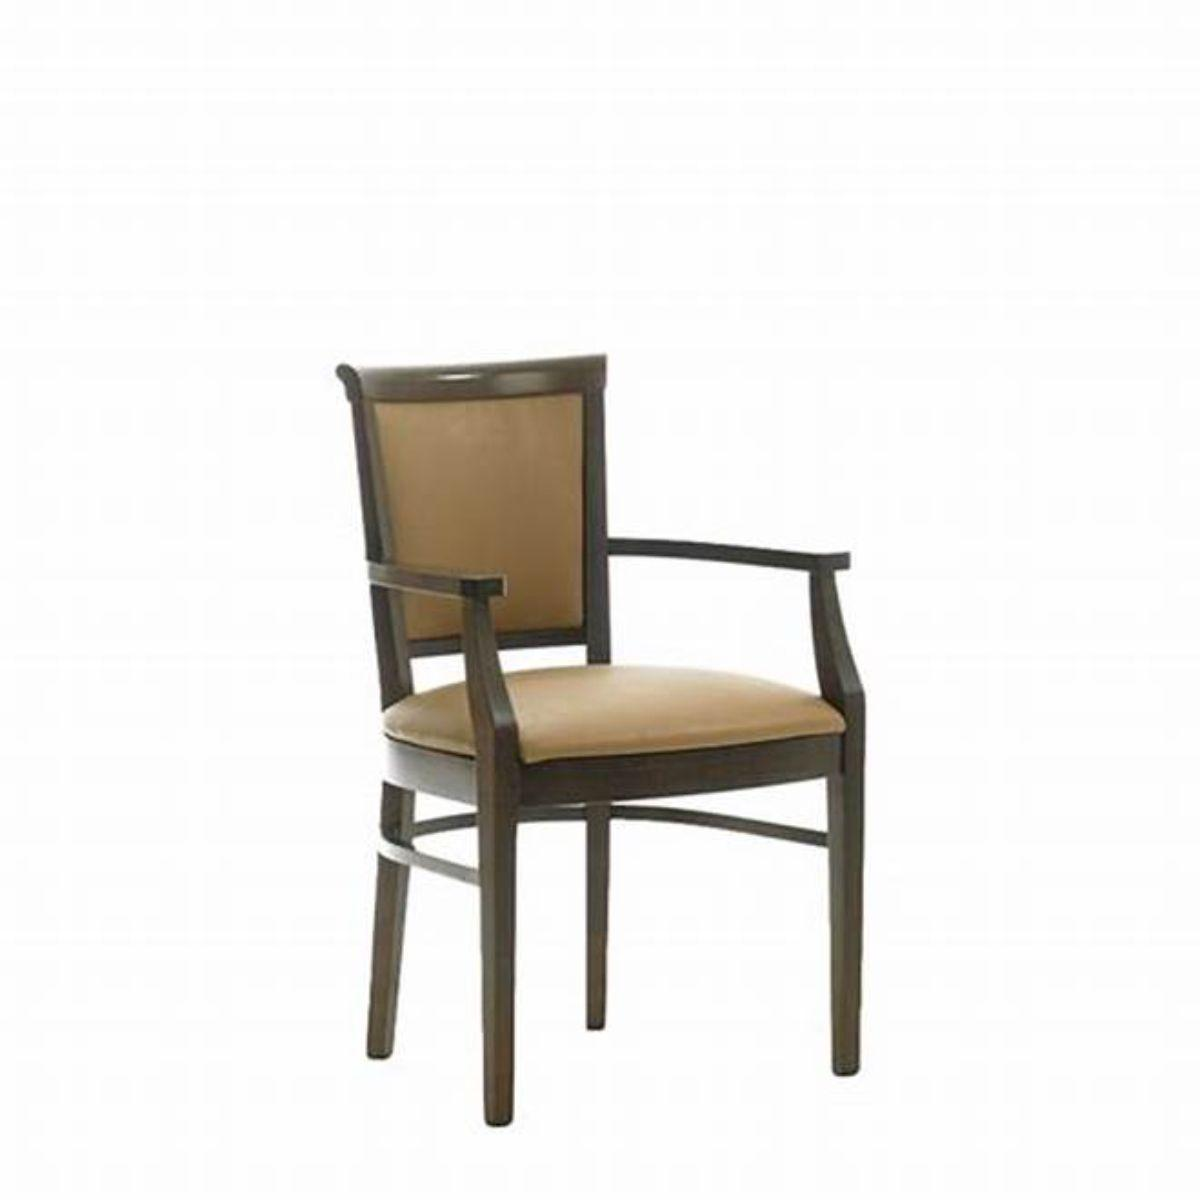Chair: (332, 351, 876, 1128)
